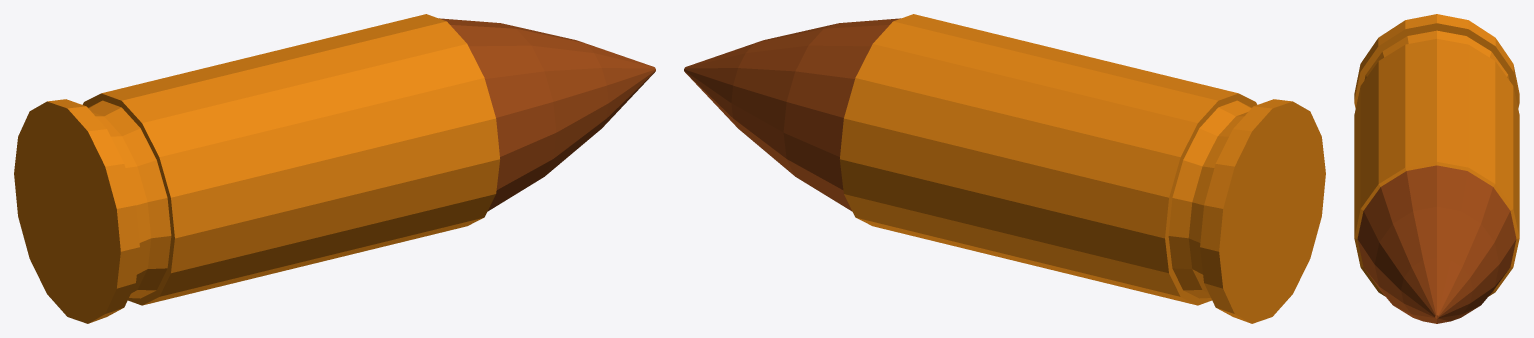
Rendered from Bullet.fbx.
3 renders of one model, left to right at view 1: azimuth 30°, elevation 25°; view 2: azimuth 150°, elevation 25°; view 3: azimuth 270°, elevation 25°, orthographic. The views are drawn at different scales.
Parts seen in each view (by area): view 1: Circle; view 2: Circle; view 3: Circle.
Part boxes in pixels (x1,y1,x2,y2): Circle: (14,14,655,323); Circle: (684,14,1325,323); Circle: (1354,14,1519,323).
Size of the model in its own units: 635 by 215 by 200.
